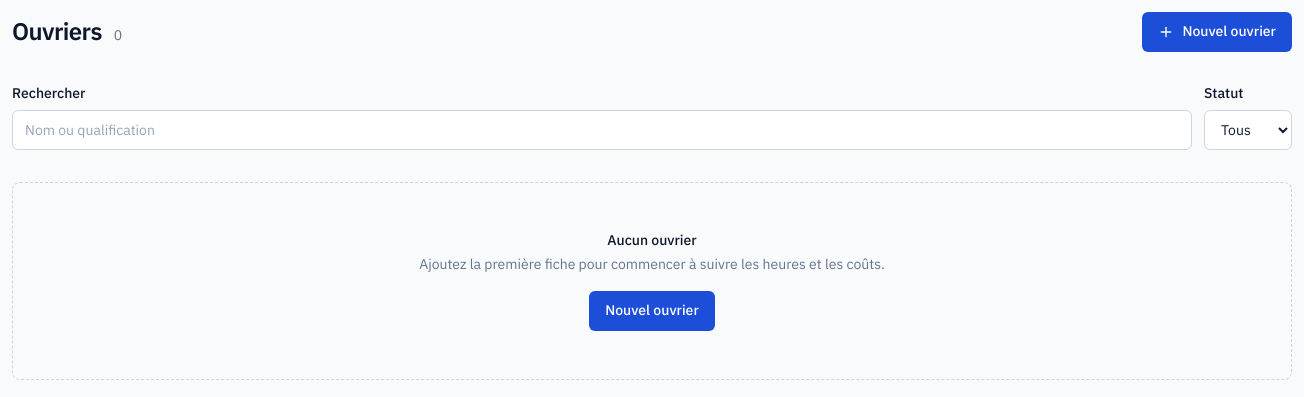
WorkerListPage › says "no result" under an active filter, and offers to clear it
The width and height of the screenshot is (1304, 397).
Expected: the text "Aucun ouvrier" is shown, [607,230,697,251]
Select "Inactif" in the dropdown labelled "Statut" at (1248, 130), box [1204,110,1292,150]
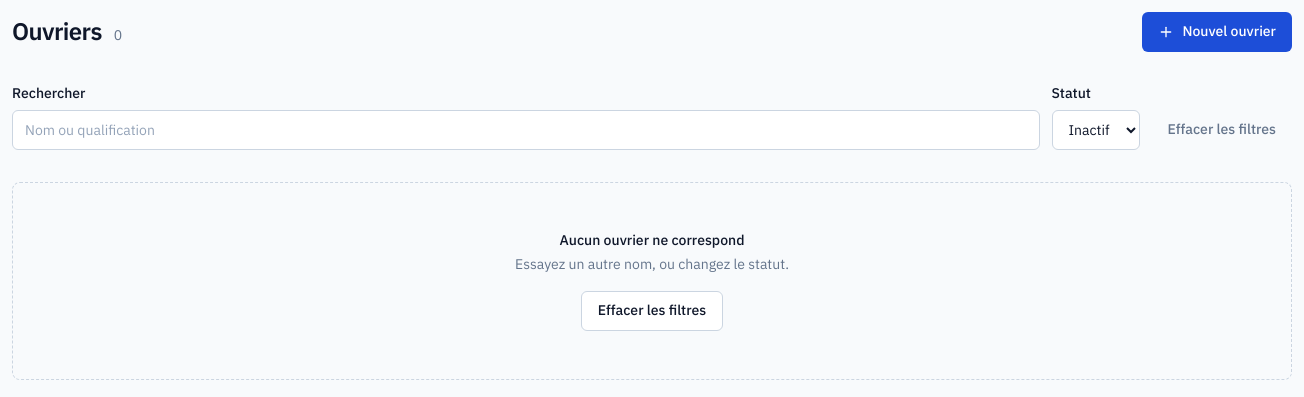
Expected: the text "Aucun ouvrier ne correspond" is shown, [560,230,744,251]
Expected: the 1st button "Effacer les filtres" is shown, [1152,110,1292,150]
